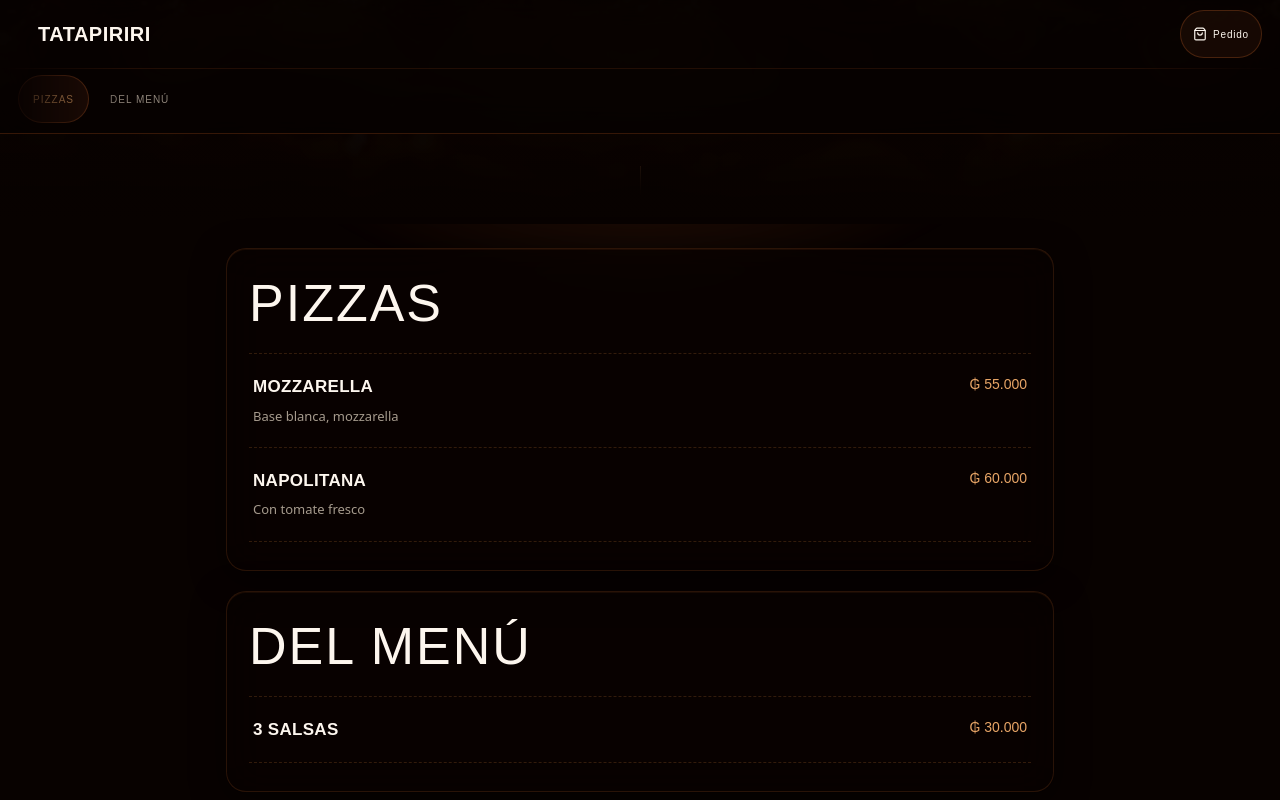
Scenario: GastronomyTemplate — ticket-grid catalog › adds a product to the cart from the bottom sheet CTA
(page scrolled)
Click the button "Mozzarella Base blanca, mozzarella ₲ 55.000": (313, 386) [249,353,1031,448]
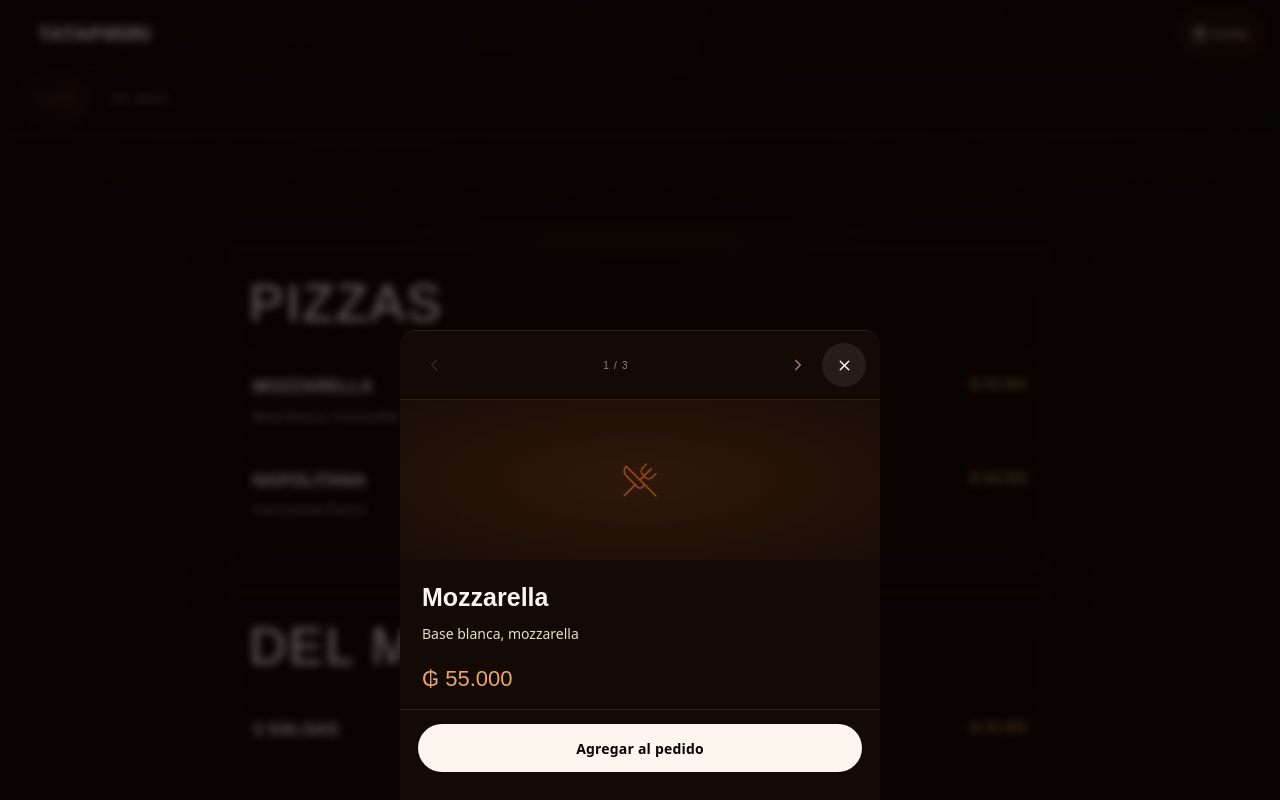
Click the button "Agregar al pedido": (640, 748) [418,724,862,772]
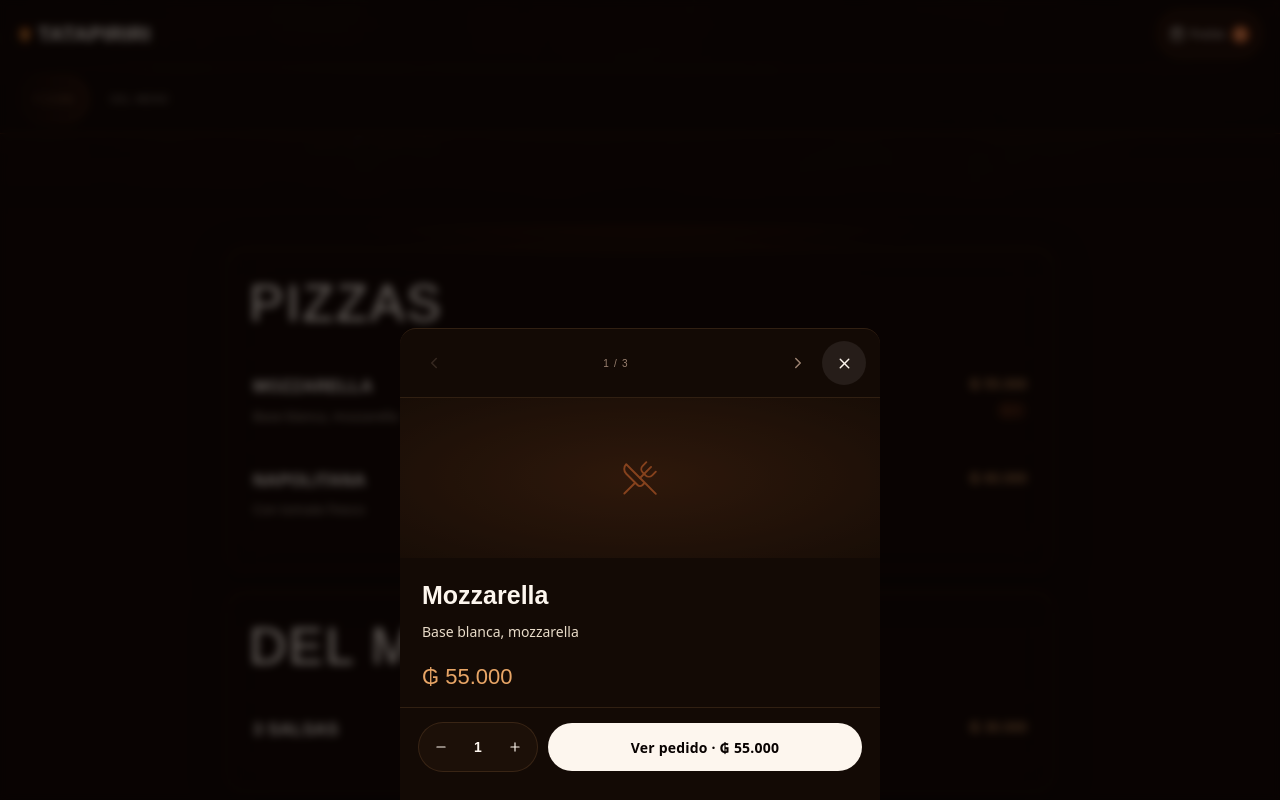
Check: the 1st text "1" is shown, box [1232,26,1249,42]
